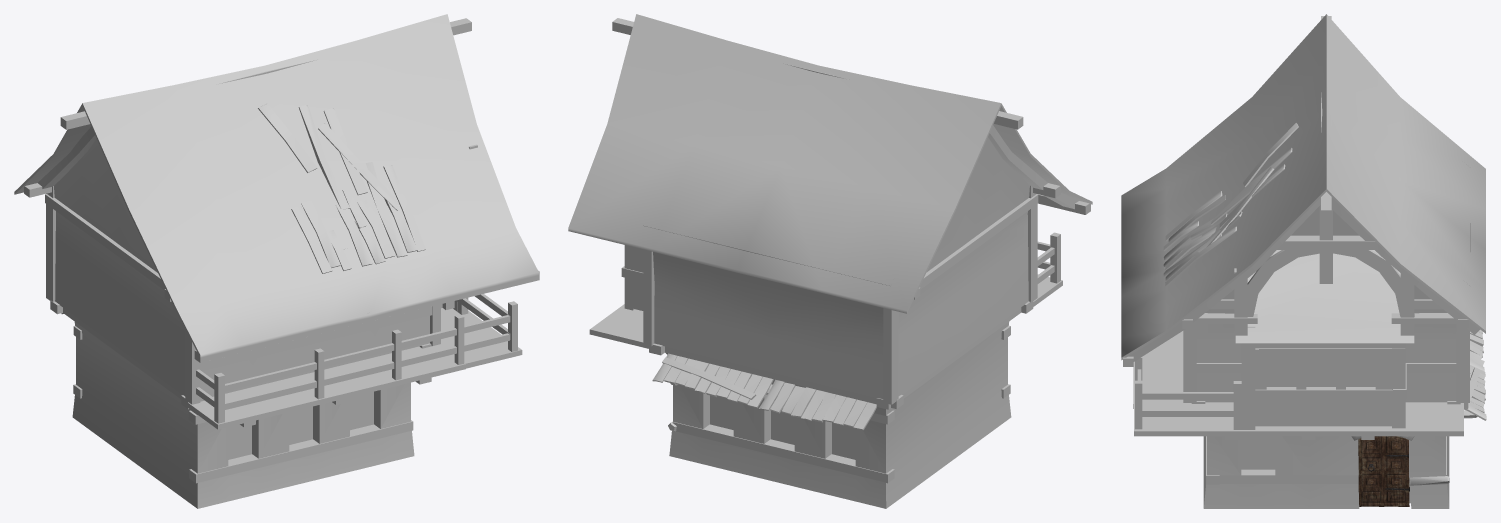
Rendered from fantasy_house4.fbx.
3 renders of one model, left to right at view 1: azimuth 30°, elevation 25°; view 2: azimuth 150°, elevation 25°; view 3: azimuth 270°, elevation 25°, orthographic.
Visible parts, largest first — view 1: Mesh Object; view 2: Mesh Object; view 3: Mesh Object.
Part boxes in pixels (x1=…): Mesh Object: x1=14, y1=14, x2=539, y2=508; Mesh Object: x1=568, y1=14, x2=1092, y2=508; Mesh Object: x1=1121, y1=14, x2=1486, y2=508.
Bounding box in the file's own units: 11.23 × 9.86 × 8.93.
